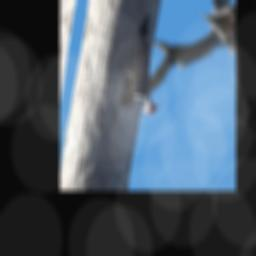Woodpecker: (112, 6, 175, 122)
